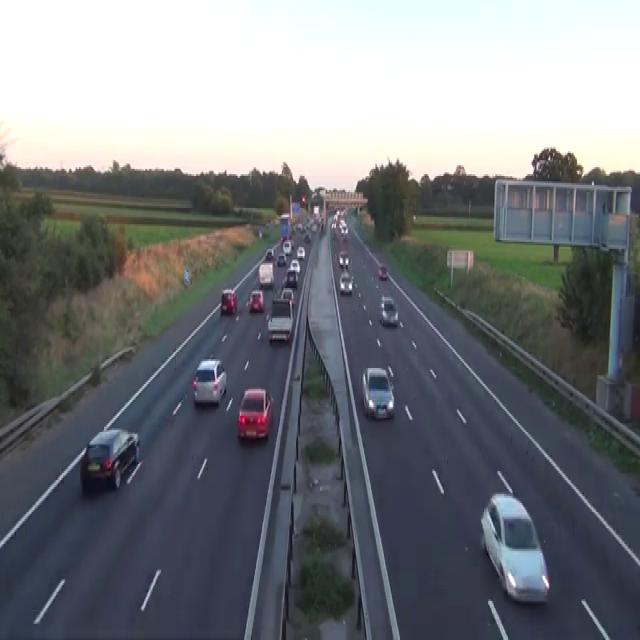Car: (480, 492, 550, 604), (79, 426, 140, 491), (236, 387, 273, 441), (361, 366, 394, 420), (192, 358, 226, 406), (267, 297, 294, 341), (379, 295, 398, 325), (331, 212, 348, 242), (220, 288, 236, 315), (258, 261, 274, 288), (248, 290, 264, 311), (280, 288, 295, 308), (283, 268, 298, 288), (339, 272, 352, 295), (338, 249, 349, 268), (289, 258, 300, 274), (339, 220, 348, 237), (378, 263, 387, 279), (282, 238, 291, 254), (296, 246, 305, 260), (277, 252, 286, 265), (265, 247, 274, 260), (296, 222, 305, 233), (303, 231, 310, 242), (290, 236, 295, 249), (446, 182, 454, 190), (331, 222, 335, 238), (311, 222, 317, 231), (301, 194, 306, 204), (258, 228, 262, 236), (412, 214, 416, 222), (275, 217, 279, 224)
Truck: (279, 214, 290, 238)
